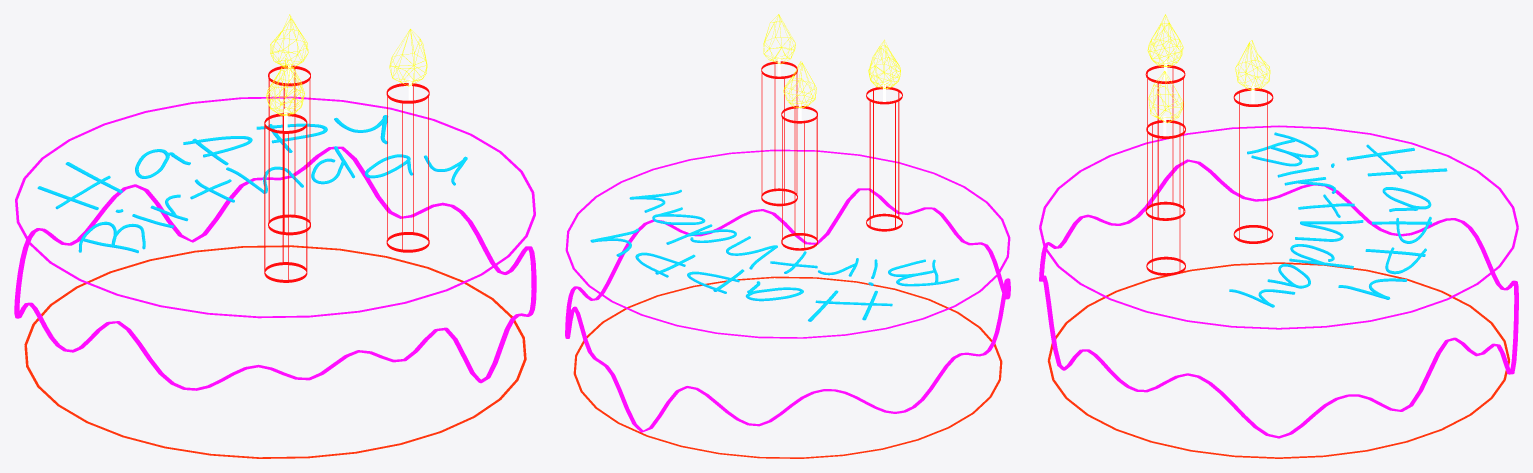
Rendered from neon_birthday_cake.glb.
3 renders of one model, left to right at view 1: azimuth 30°, elevation 25°; view 2: azimuth 150°, elevation 25°; view 3: azimuth 270°, elevation 25°, orthographic. The views are drawn at different scales.
Visible parts, largest first — view 1: Icing_Bottom.001_18, Text.002_19, Icing_Top_6, Cake_1, Candle3.001_16, candle1.001_14, Candle2.001_15, Candlefire1_10, Candlefire3_8, Candlefire2_9; view 2: Icing_Bottom.001_18, Text.002_19, Icing_Top_6, Cake_1, Candle2.001_15, candle1.001_14, Candle3.001_16, Candlefire1_10, Candlefire3_8, Candlefire2_9; view 3: Icing_Bottom.001_18, Text.002_19, Icing_Top_6, Cake_1, candle1.001_14, Candle2.001_15, Candle3.001_16, Candlefire1_10, Candlefire3_8, Candlefire2_9.
Part boxes in pixels (x1,y1,x2,y2): Icing_Bottom.001_18: (14,146,536,390); Text.002_19: (37,115,467,253); Icing_Top_6: (15,96,535,318); Cake_1: (24,245,526,458); Candle3.001_16: (268,65,310,235); candle1.001_14: (264,113,307,282); Candle2.001_15: (386,83,429,252); Candlefire1_10: (266,58,304,115); Candlefire3_8: (270,14,308,68); Candlefire2_9: (389,29,427,86); Icing_Bottom.001_18: (565,188,1010,432); Text.002_19: (590,189,959,321); Icing_Top_6: (565,149,1010,338); Cake_1: (573,276,1002,458); Candle2.001_15: (761,61,797,206); candle1.001_14: (866,86,902,231); Candle3.001_16: (781,105,817,250); Candlefire1_10: (868,39,900,88); Candlefire3_8: (783,61,816,108); Candlefire2_9: (763,14,795,64); Icing_Bottom.001_18: (1039,159,1518,438); Text.002_19: (1229,132,1447,307); Icing_Top_6: (1039,125,1518,329); Cake_1: (1047,262,1509,458); candle1.001_14: (1145,65,1185,220); Candle2.001_15: (1146,120,1185,275); Candle3.001_16: (1233,88,1273,243); Candlefire1_10: (1147,14,1183,66); Candlefire3_8: (1235,40,1270,90); Candlefire2_9: (1148,71,1183,123).
Bounding box in the file's own units: 0.4583 × 0.3415 × 0.4583.
